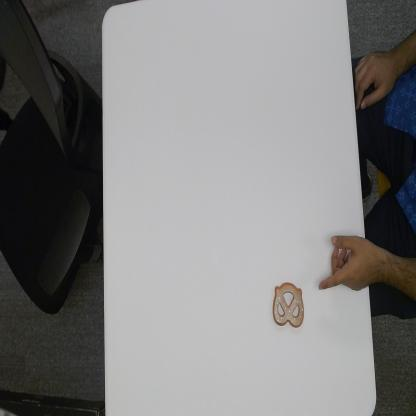Hand: (318, 227, 380, 297)
Pretzel: (270, 276, 305, 331)
